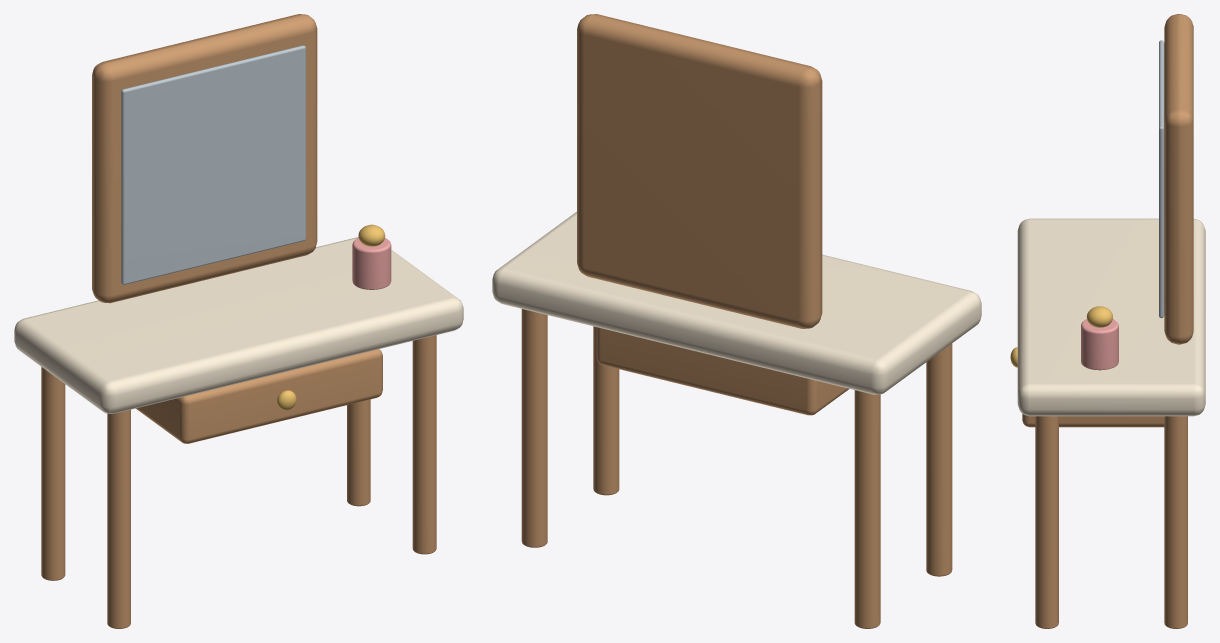
The model's file is bedroomVanity.glb.
The picture shows the model from 3 angles, left to right: view 1: azimuth 30°, elevation 25°; view 2: azimuth 150°, elevation 25°; view 3: azimuth 270°, elevation 25°; orthographic projection. The views are drawn at different scales.
Parts seen in each view (by area): view 1: Vanity tabletop, Vanity mirror, Mirror frame, Vanity drawer, Vanity leg.002, Vanity leg, Vanity leg.001, Vanity leg.003, Perfume bottle; view 2: Mirror frame, Vanity tabletop, Vanity drawer, Vanity leg.001, Vanity leg.003, Vanity leg, Vanity leg.002; view 3: Vanity tabletop, Mirror frame, Vanity leg.002, Vanity leg.003, Perfume bottle, Vanity mirror, Vanity drawer, Perfume stopper.
Part boxes in pixels (bbox=[...]): Vanity tabletop: bbox=[14, 237, 463, 413]; Vanity mirror: bbox=[121, 45, 305, 284]; Mirror frame: bbox=[92, 14, 317, 303]; Vanity drawer: bbox=[136, 349, 382, 443]; Vanity leg.002: bbox=[412, 335, 436, 554]; Vanity leg: bbox=[107, 409, 130, 628]; Vanity leg.001: bbox=[41, 367, 65, 580]; Vanity leg.003: bbox=[347, 399, 370, 506]; Perfume bottle: bbox=[352, 238, 391, 289]; Mirror frame: bbox=[577, 14, 822, 328]; Vanity tabletop: bbox=[492, 211, 981, 394]; Vanity drawer: bbox=[596, 327, 849, 415]; Vanity leg.001: bbox=[854, 390, 880, 628]; Vanity leg.003: bbox=[521, 309, 547, 547]; Vanity leg: bbox=[926, 343, 952, 576]; Vanity leg.002: bbox=[593, 326, 619, 495]; Vanity tabletop: bbox=[1017, 218, 1205, 416]; Mirror frame: bbox=[1164, 14, 1193, 344]; Vanity leg.002: bbox=[1035, 416, 1058, 628]; Vanity leg.003: bbox=[1164, 416, 1187, 628]; Perfume bottle: bbox=[1081, 319, 1118, 370]; Vanity mirror: bbox=[1159, 40, 1164, 318]; Vanity drawer: bbox=[1022, 414, 1164, 427]; Perfume stopper: bbox=[1086, 306, 1112, 327].
Size of the model in its own units: 1.4 by 1.84 by 0.665.
